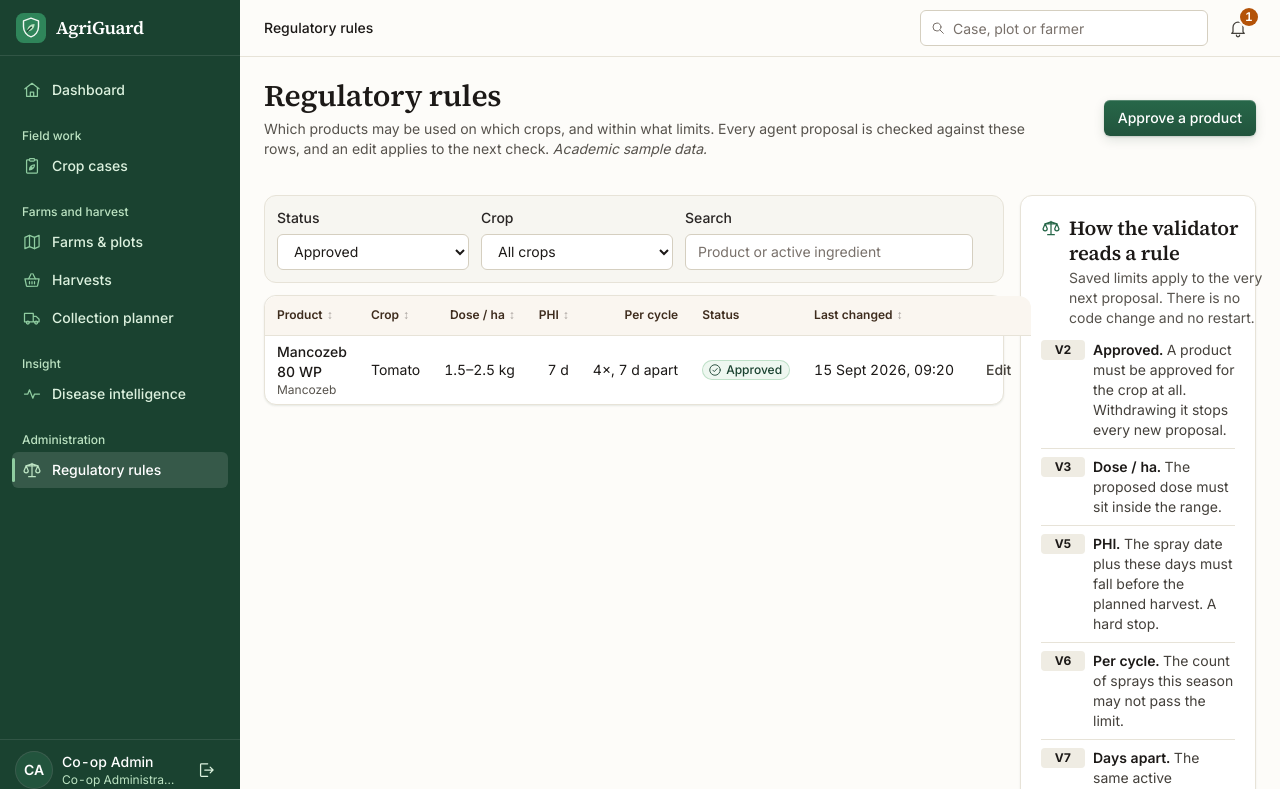
it: RulesPage › saves an edited limit — the viva task of changing a business rule
Click the button with aria-label "Edit Mancozeb 80 WP on Tomato" at (999,370), box [978,354,1019,386]
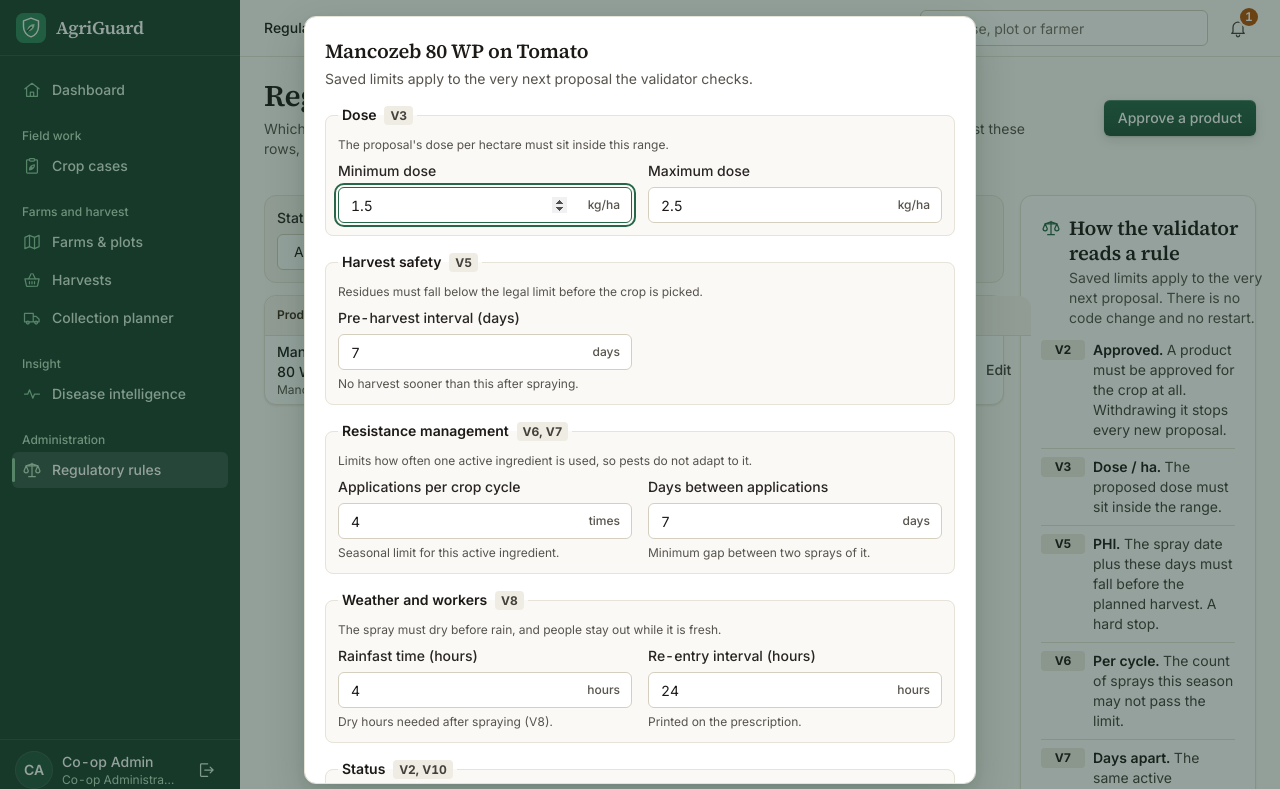
Replace the text in the number field labelled "Maximum dose" with "1.8" at (795,205), box [648,187,942,223]
(page scrolled)
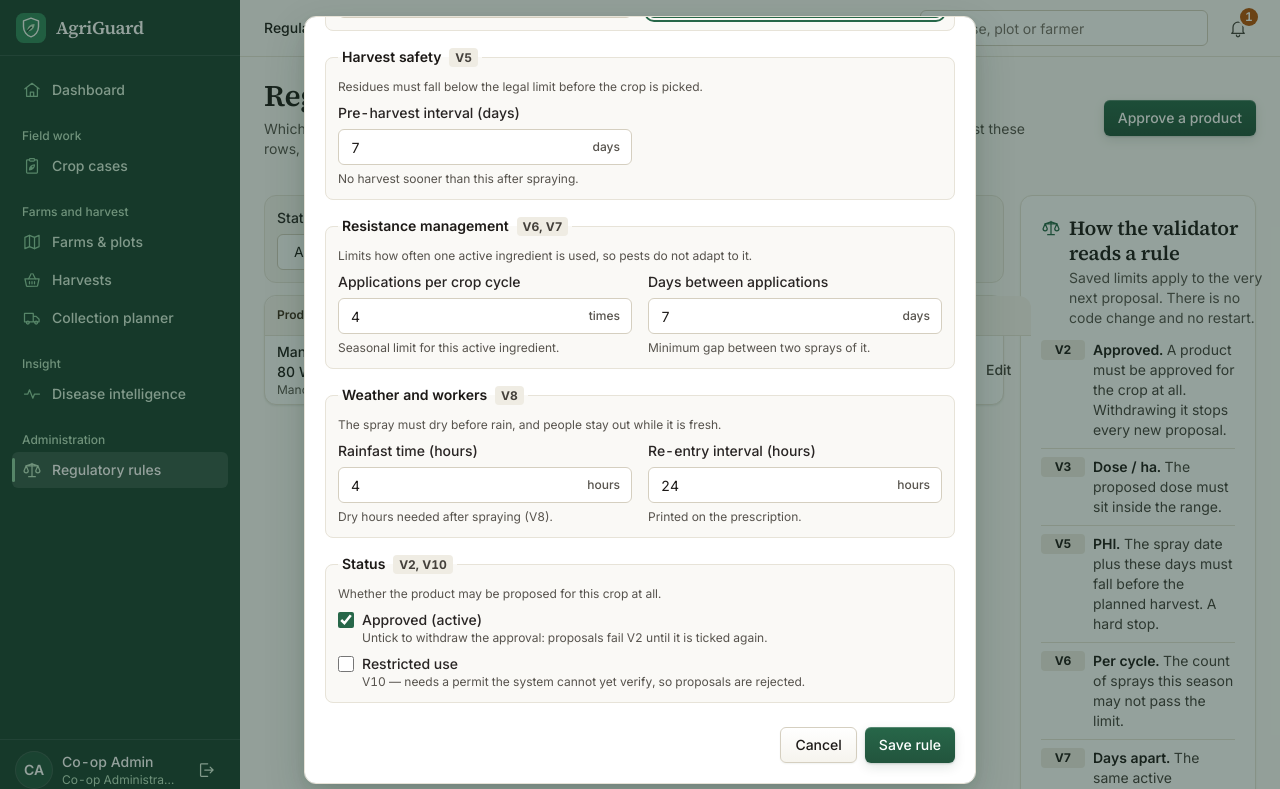
Click the button "Save rule" at (910,745), box [865,727,955,763]
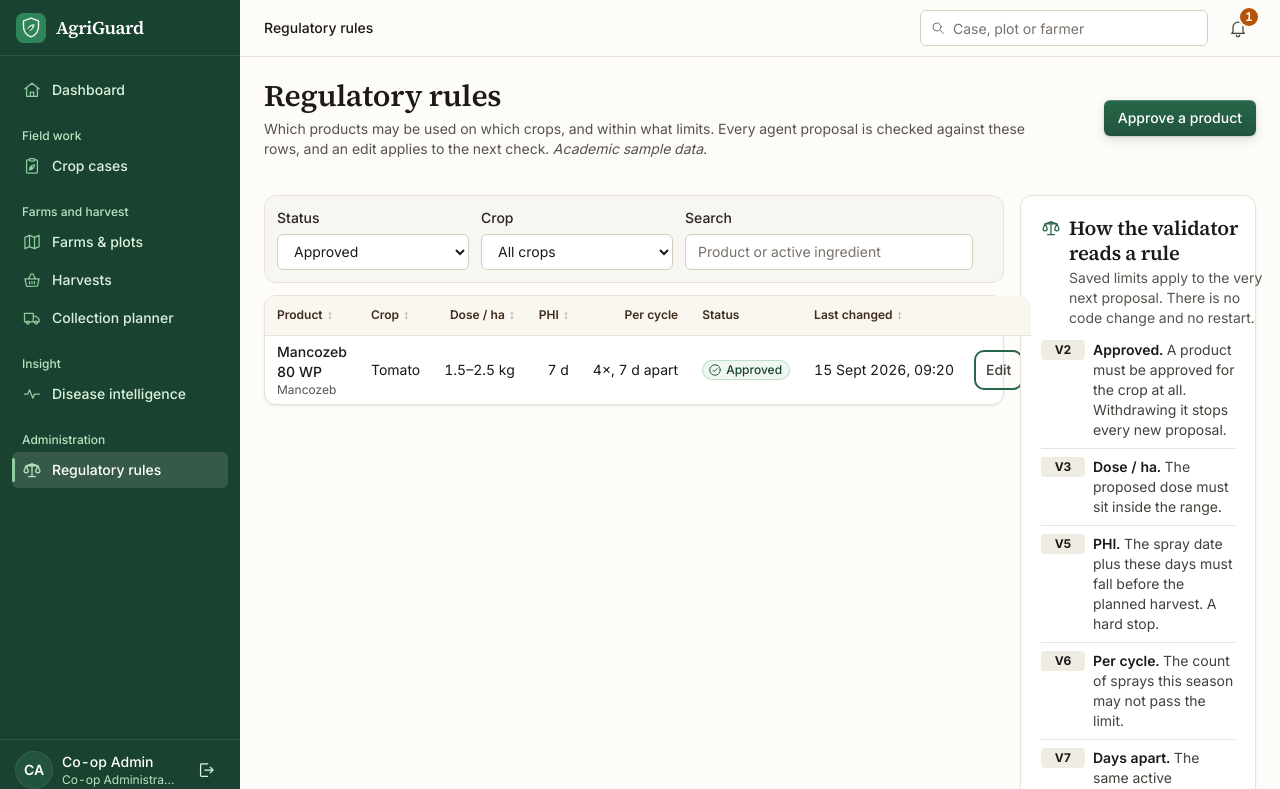
Expected: the dialog is gone
